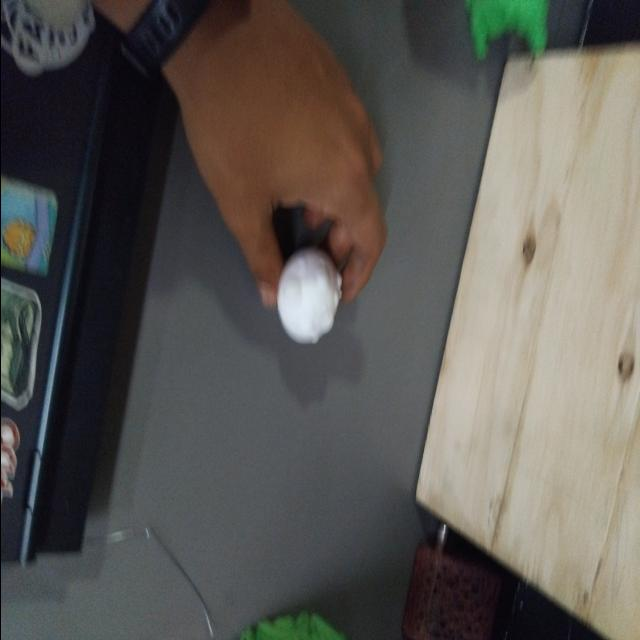Hongo: (270, 242, 344, 354)
